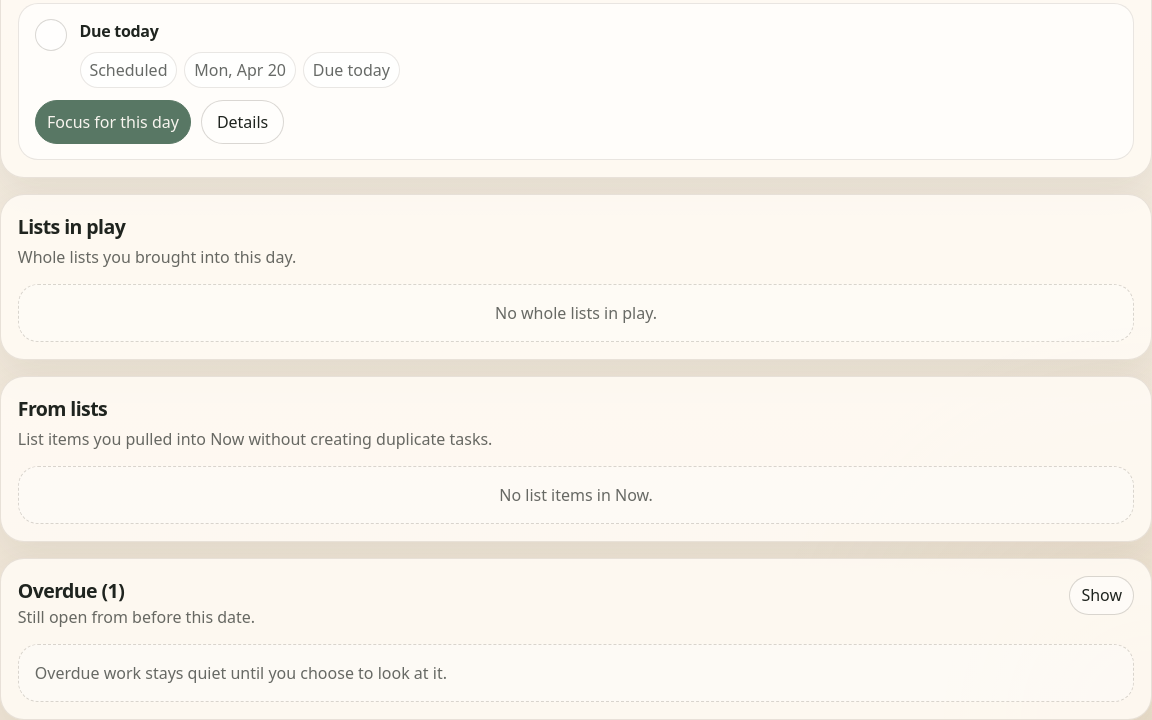
it: NowView › keeps due-today planned work in Now, future work out of Now, and removes Next up
(page scrolled)
expect the heading "Due today" is shown: met, box [80,19,158,43]
expect the button "Focus for this day" is shown: met, box [35,100,191,144]
Click the button "Show" at (1102, 595), box [1069,576,1134,615]
(page scrolled)
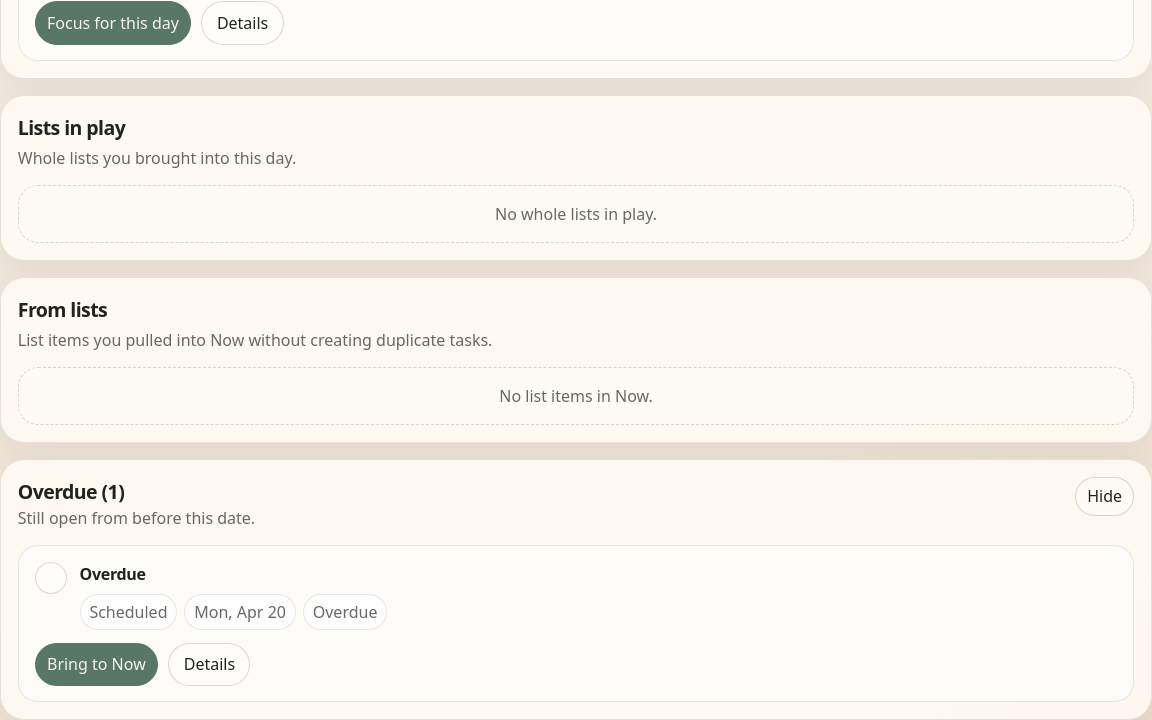
expect the button "Bring to Now" is shown: met, box [35,643,158,686]
